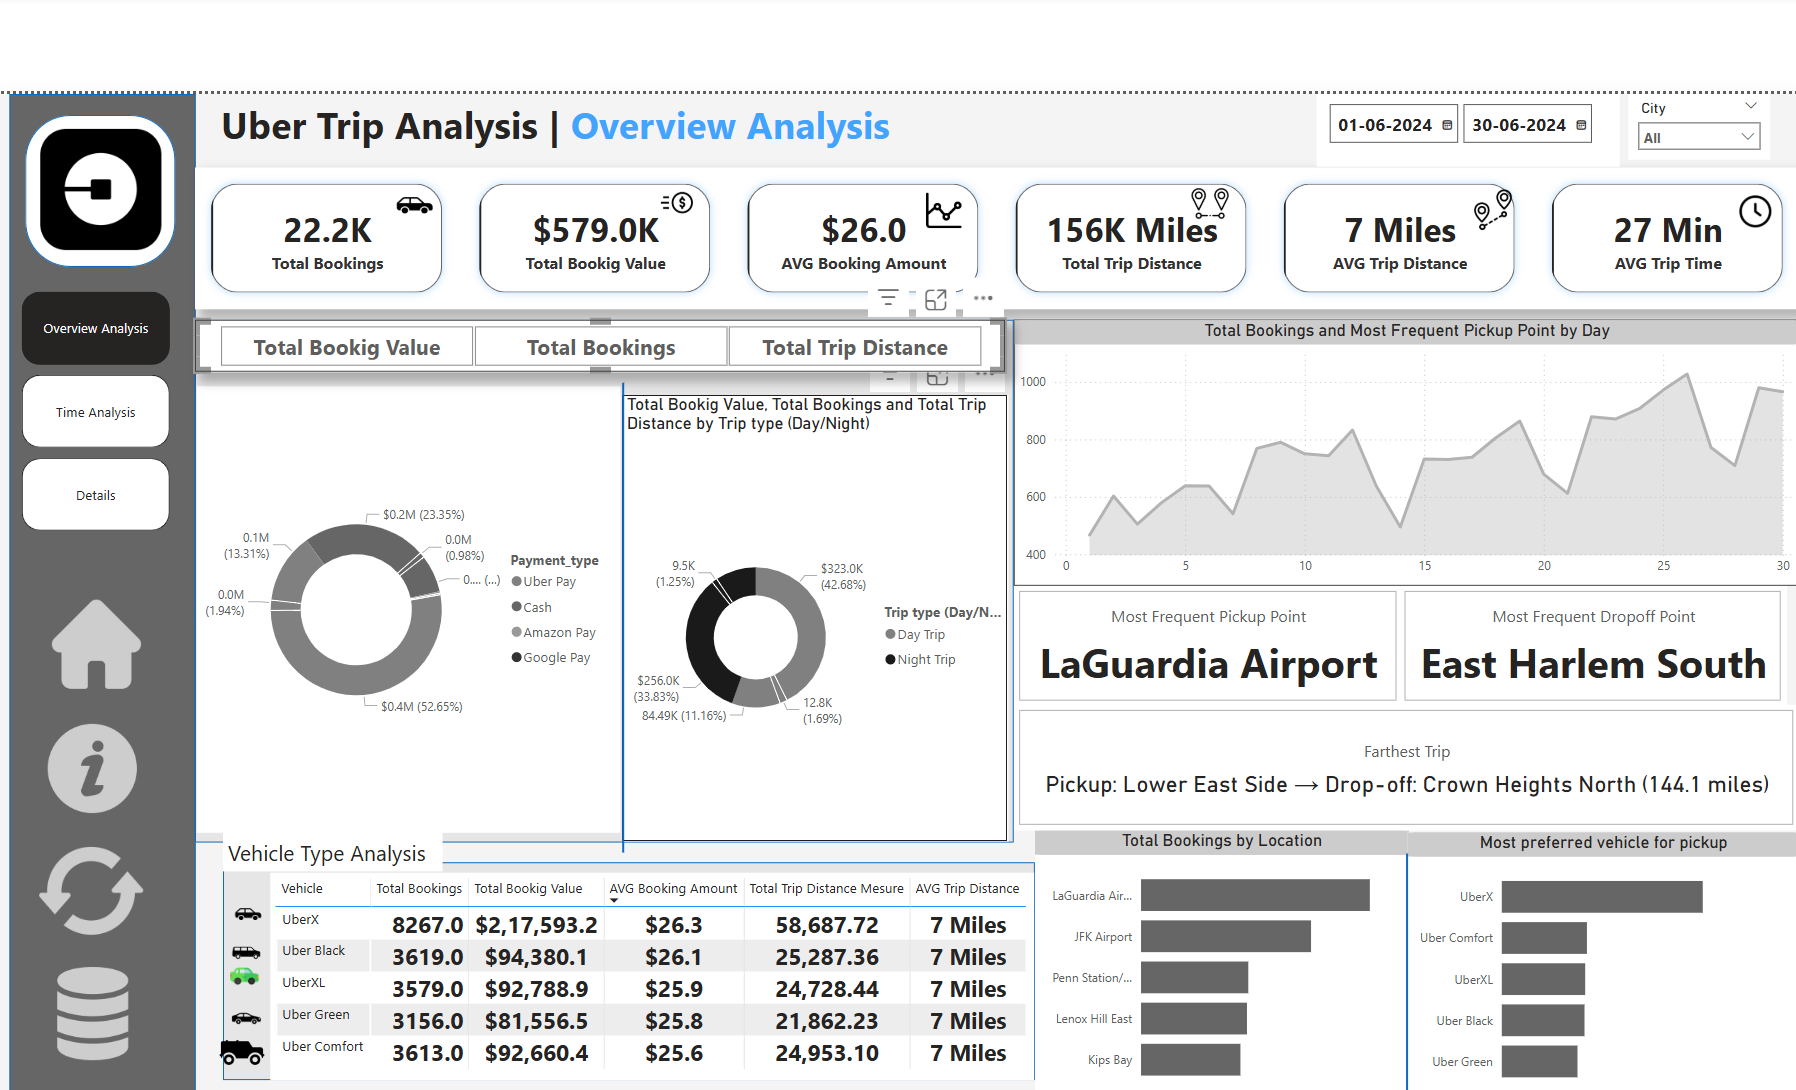

The page's visual inventory and layout, read from the dashboard file:
{"tool":"powerbi","page":{"name":"Overview Analysis","canvas":[1800,1000],"ordinal":0},"visuals":[{"type":"shape","box":[10.6,0,186,1199.5],"z":0},{"type":"textbox","box":[216.9,0,766.1,73.5],"z":1000},{"type":"cardVisual","fields":{"Data":["Trip Details.Total Bookings","Trip Details.Total Bookig Amount","Trip Details.AVG Booking Amount","Trip Details.Total Trip Distance","Trip Details.AVG Trip Distance","Trip Details.AVG Trip Time"]},"box":[195.9,73.5,1603.9,141.7],"z":2000},{"type":"image","box":[652.4,87.5,50.7,42],"z":3000},{"type":"image","box":[1469.2,85.7,50.7,59.5],"z":4000},{"type":"image","box":[1171.9,85.7,77,47.2],"z":5000},{"type":"image","box":[1724.5,96.2,61.2,42],"z":6000},{"type":"image","box":[918.2,90.9,52.5,50.7],"z":7000},{"type":"image","box":[388.3,87.5,54.2,47.2],"z":8000},{"type":"shape","box":[196.7,225,818.6,522.7],"z":9000},{"type":"slicer","fields":{"Values":["Dynamic Mesure.Dynamic Mesure"]},"box":[195.9,225.6,809.8,52.5],"z":10000},{"type":"donutChart","fields":{"Y":["Trip Details.Total Bookings"],"Category":["Trip Details.Payment_type"]},"box":[198.4,292.3,423.5,446.5],"z":11000},{"type":"donutChart","fields":{"Y":["Trip Details.Total Bookings"],"Category":["Trip Details.Trip type (Day/Night)"]},"box":[621.9,301.2,386.3,446.5],"z":12000},{"type":"shape","box":[223.2,767.2,811.5,217.9],"z":13000},{"type":"pivotTable","fields":{"Rows":["Trip Details.Vehicle"],"Values":["Trip Details.Total Bookings","Trip Details.Total Bookig Value","Trip Details.AVG Booking Amount","Trip Details.Total Trip Distance Mesure","Trip Details.AVG Trip Distance"]},"box":[271.1,777.8,763.6,207.3],"z":14000},{"type":"image","box":[207.3,862.9,74.4,39],"z":15000},{"type":"image","box":[210.8,800.8,74.4,37.2],"z":16000},{"type":"image","box":[209.1,838.1,74.4,40.8],"z":17000},{"type":"image","box":[207.3,901.8,78,42.5],"z":18000},{"type":"image","box":[202,930.2,83.3,54.9],"z":19000},{"type":"lineChart","fields":{"Category":["Calender Table.Date.Variation.Date Hierarchy.Day"],"Y":["Trip Details.Total Bookings"]},"box":[1015.2,225,784.9,265.8],"z":20000},{"type":"cardVisual","fields":{"Data":["Trip Details.Most Frequent Pickup Point","Trip Details.Most Frequent Dropoff Point"]},"box":[1015.2,490.8,772.5,120.5],"z":20001},{"type":"cardVisual","fields":{"Data":["Trip Details.Farthest Trip"]},"box":[1015.2,611.3,784.9,125.8],"z":20002},{"type":"barChart","fields":{"Category":["Location Table.Location"],"Y":["Trip Details.Total Bookings"]},"box":[1034.7,737.1,373.8,267.5],"z":20003},{"type":"barChart","title":"Most preferred vehicle for pickup","fields":{"Category":["Trip Details.Vehicle"],"Y":["CountNonNull(Trip Details.PULocationID)"]},"box":[1408.6,738.8,391.6,267.5],"z":20004},{"type":"shape","box":[600.6,288.8,47.8,469.5],"z":20005},{"type":"shape","box":[1389.1,758.3,37.2,248.1],"z":20006},{"type":"textbox","box":[223.2,738.8,219.7,39],"z":20007},{"type":"slicer","fields":{"Values":["Calender Table.Date"]},"box":[1316.4,0,303,72.6],"z":20008},{"type":"slicer","fields":{"Values":["Location Table.City"]},"box":[1628.3,0,141.7,65.6],"z":20009},{"type":"shape","box":[26.2,20.6,150,151.9],"z":20010},{"type":"image","box":[33.8,30,136.9,131.2],"z":20011},{"type":"pageNavigator","box":[22.5,196.9,148.1,241.9],"z":20012},{"type":"image","box":[35.6,624.4,116.2,99.4],"z":20013},{"type":"image","box":[35.6,738.8,114.4,116.2],"z":20014},{"type":"image","box":[41.2,500.6,110.6,99.4],"z":20015},{"type":"image","box":[41.2,858.8,103.1,120],"z":20016}]}

Visuals, with their boxes on the page's 1800x1000 design canvas (x1, y1, x2, y2). These are canvas units, not pixel positions in the 1796x1090 screenshot, which may show the page scaled, cropped or inside an application window:
shape: BBox(11, 0, 197, 1200)
textbox: BBox(217, 0, 983, 74)
cardVisual - Trip Details.Total Bookings x Trip Details.Total Bookig Amount: BBox(196, 74, 1800, 215)
image: BBox(652, 88, 703, 130)
image: BBox(1469, 86, 1520, 145)
image: BBox(1172, 86, 1249, 133)
image: BBox(1724, 96, 1786, 138)
image: BBox(918, 91, 971, 142)
image: BBox(388, 88, 442, 135)
shape: BBox(197, 225, 1015, 748)
slicer - Dynamic Mesure.Dynamic Mesure: BBox(196, 226, 1006, 278)
donutChart - Trip Details.Total Bookings x Trip Details.Payment_type: BBox(198, 292, 622, 739)
donutChart - Trip Details.Total Bookings x Trip Details.Trip type (Day/Night): BBox(622, 301, 1008, 748)
shape: BBox(223, 767, 1035, 985)
pivotTable - Trip Details.Vehicle x Trip Details.Total Bookings: BBox(271, 778, 1035, 985)
image: BBox(207, 863, 282, 902)
image: BBox(211, 801, 285, 838)
image: BBox(209, 838, 284, 879)
image: BBox(207, 902, 285, 944)
image: BBox(202, 930, 285, 985)
lineChart - Calender Table.Date.Variation.Date Hierarchy.Day x Trip Details.Total Bookings: BBox(1015, 225, 1800, 491)
cardVisual - Trip Details.Most Frequent Pickup Point x Trip Details.Most Frequent Dropoff Point: BBox(1015, 491, 1788, 611)
cardVisual - Trip Details.Farthest Trip: BBox(1015, 611, 1800, 737)
barChart - Location Table.Location x Trip Details.Total Bookings: BBox(1035, 737, 1408, 1005)
"Most preferred vehicle for pickup" barChart: BBox(1409, 739, 1800, 1006)
shape: BBox(601, 289, 648, 758)
shape: BBox(1389, 758, 1426, 1006)
textbox: BBox(223, 739, 443, 778)
slicer - Calender Table.Date: BBox(1316, 0, 1619, 73)
slicer - Location Table.City: BBox(1628, 0, 1770, 66)
shape: BBox(26, 21, 176, 172)
image: BBox(34, 30, 171, 161)
pageNavigator: BBox(22, 197, 171, 439)
image: BBox(36, 624, 152, 724)
image: BBox(36, 739, 150, 855)
image: BBox(41, 501, 152, 600)
image: BBox(41, 859, 144, 979)
